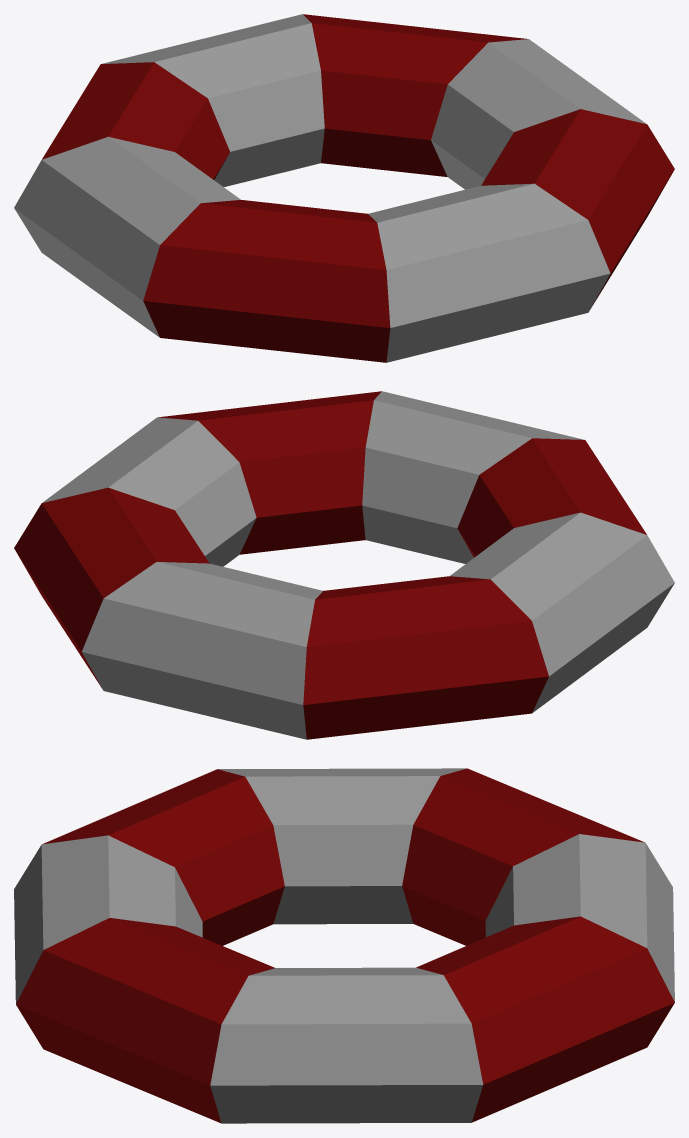
File: Belt.fbx
3 views of the same model, one above another, from view 1: azimuth 30°, elevation 25°; view 2: azimuth 150°, elevation 25°; view 3: azimuth 270°, elevation 25° (orthographic). The views are drawn at different scales.
Visible parts, largest first — view 1: Torus003; view 2: Torus003; view 3: Torus003.
Part boxes in pixels (bbox=[...]): Torus003: bbox=[14, 14, 674, 362]; Torus003: bbox=[14, 391, 674, 739]; Torus003: bbox=[14, 768, 674, 1123].
Size of the model in its own units: 81.25 by 19.02 by 81.25.
